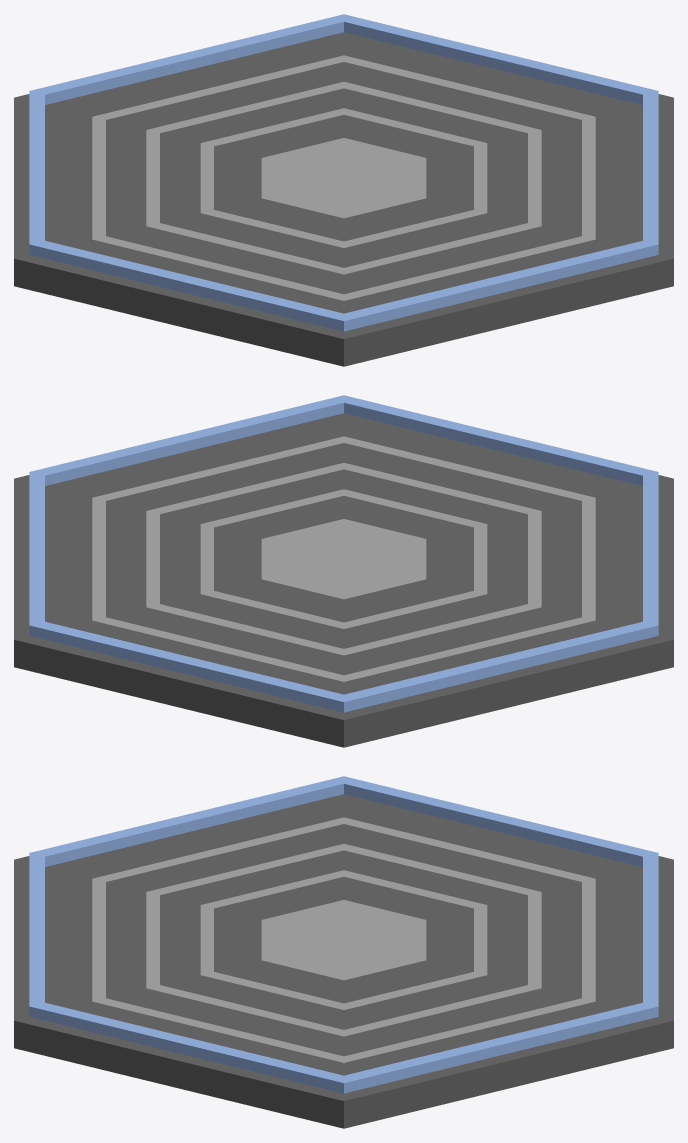
File: BaseTeleportObjetos.fbx
The picture shows the model from 3 angles, top to bottom: view 1: azimuth 30°, elevation 25°; view 2: azimuth 150°, elevation 25°; view 3: azimuth 270°, elevation 25°; orthographic projection.
Parts seen in each view (by area): view 1: BaseTeleportObjetos; view 2: BaseTeleportObjetos; view 3: BaseTeleportObjetos.
Boxes of the visible parts, x1=… form: BaseTeleportObjetos: x1=14, y1=14, x2=673, y2=366; BaseTeleportObjetos: x1=14, y1=395, x2=673, y2=747; BaseTeleportObjetos: x1=14, y1=776, x2=673, y2=1128.
Size of the model in its own units: 57.1 by 3.14 by 49.45.
